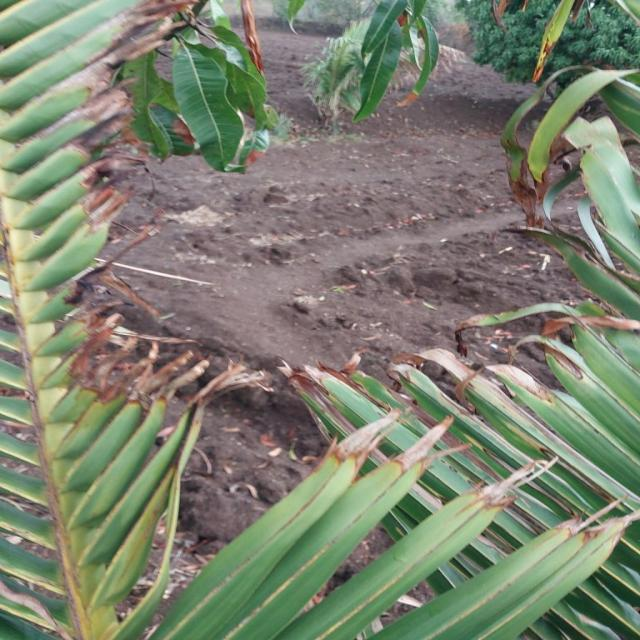leaf rot: (296, 96, 640, 593), (0, 0, 289, 446)
